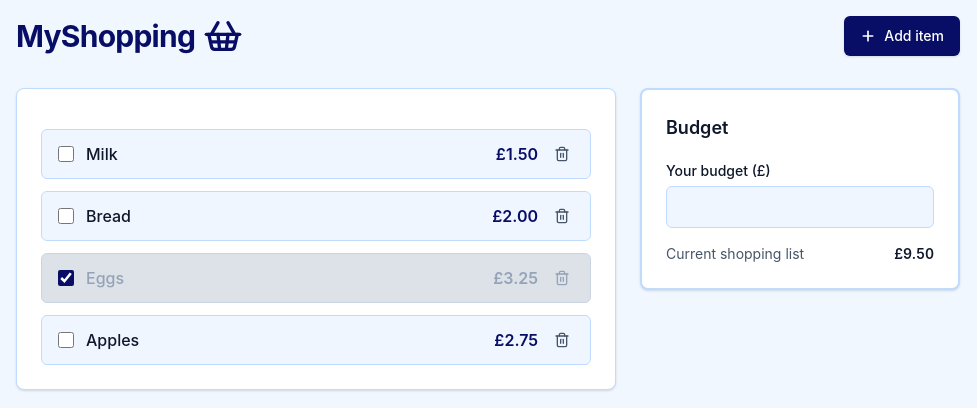
App success flows › shows over-budget status when spending limit is exceeded
This screenshot has width=977, height=408.
Type "8" into the number field labelled "Your budget (£)".
click(800, 207); type("8")  # box [666,186,934,228]
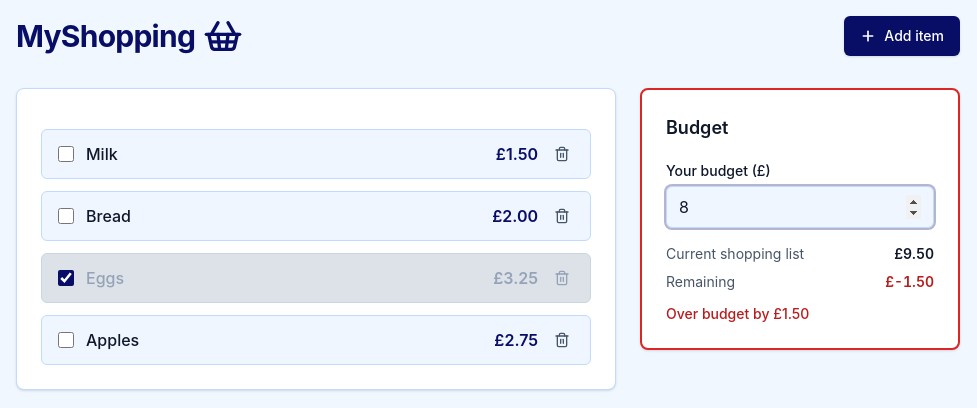
Expected: the text "Over budget by £1.50" is shown, [666,305,809,322]
